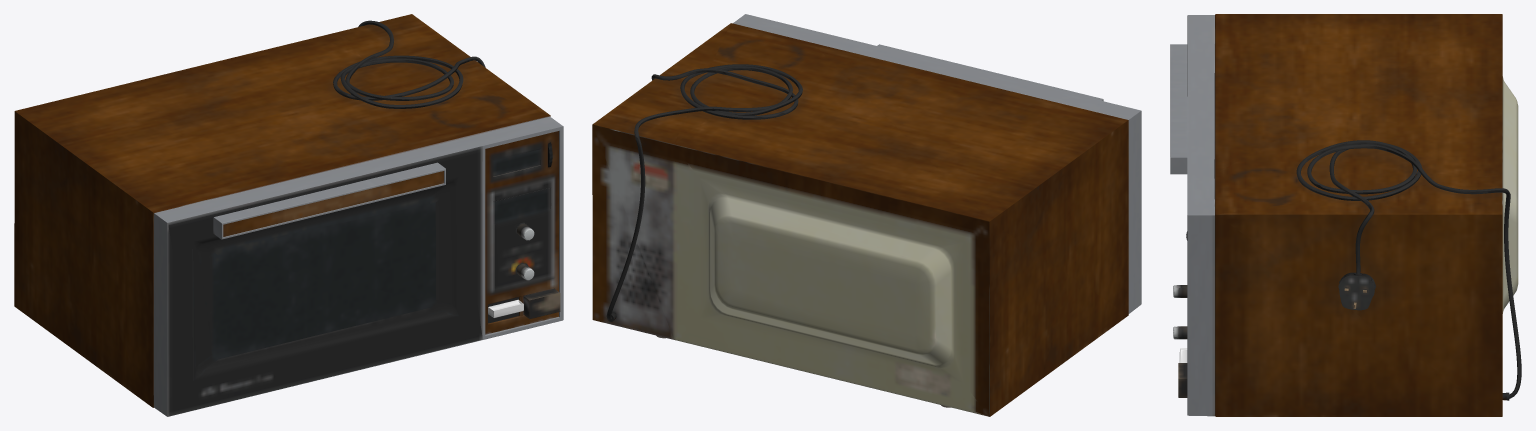
File: microwave.glb
The picture shows the model from 3 angles, left to right: view 1: azimuth 30°, elevation 25°; view 2: azimuth 150°, elevation 25°; view 3: azimuth 270°, elevation 25°; orthographic projection. The views are drawn at different scales.
Visible parts, largest first — view 1: mesh; view 2: mesh; view 3: mesh.
Part boxes in pixels (x1,y1,x2,y2): mesh: (14,14,563,416); mesh: (592,14,1141,416); mesh: (1170,14,1521,416).
Bounding box in the file's own units: 1.07 × 0.5258 × 0.7456.
Materials: 1 (1 with a texture image).
